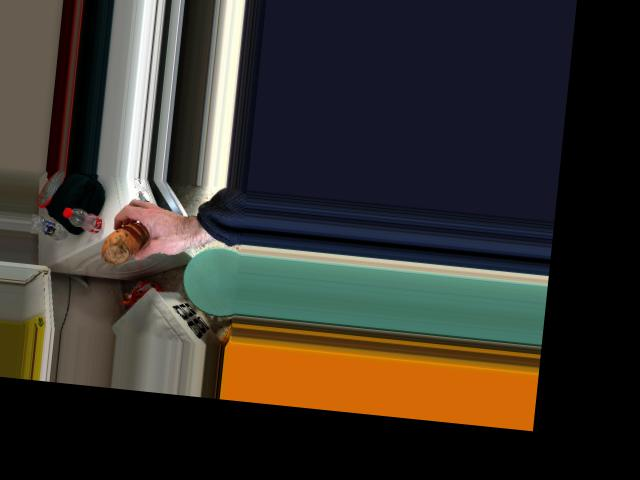sweet_potato: (102, 219, 153, 265)
